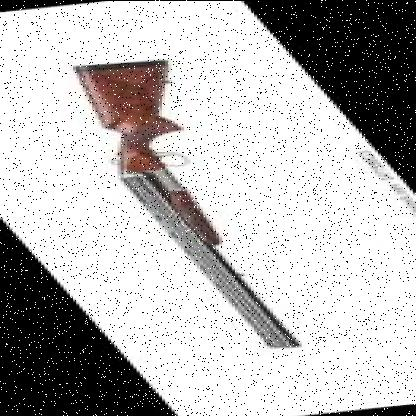rifle: (9, 56, 416, 354)
